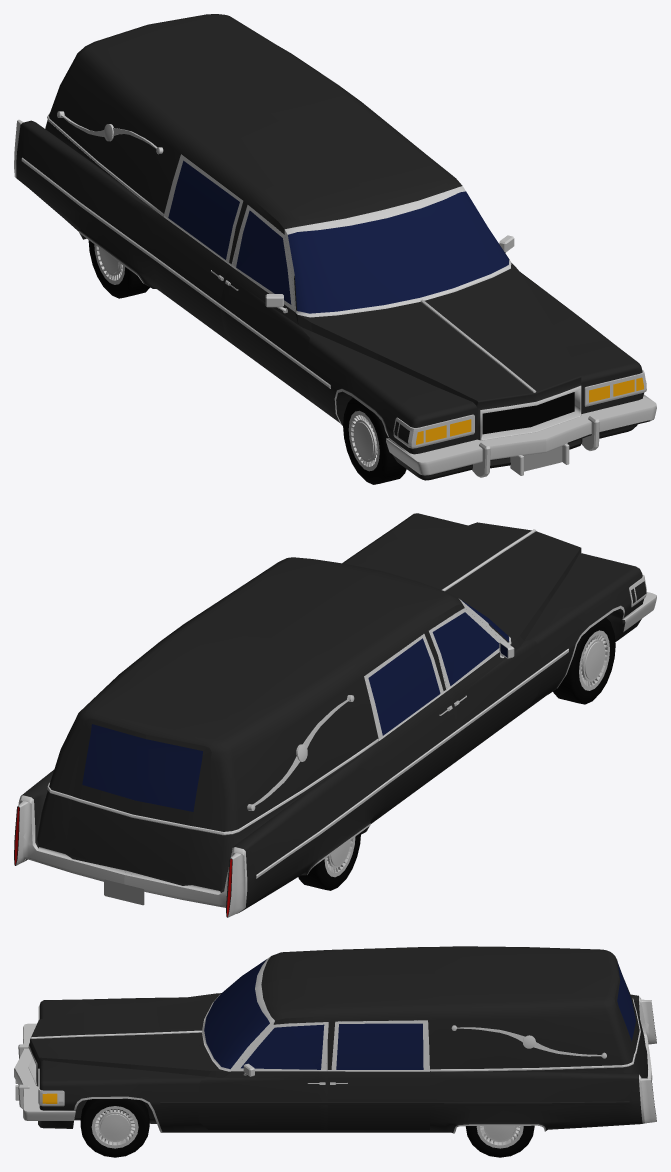
File: funeralVehicle_V01.fbx
3 renders of one model, top to bottom at view 1: azimuth 30°, elevation 25°; view 2: azimuth 150°, elevation 25°; view 3: azimuth 270°, elevation 25°, orthographic. The views are drawn at different scales.
Visible parts, largest first — view 1: Body; view 2: Body, BackDoor; view 3: Body, BackDoor.
Part boxes in pixels (x1,y1,x2,y2): Body: [14, 14, 656, 484]; Body: [14, 513, 656, 917]; BackDoor: [65, 718, 211, 885]; Body: [14, 946, 656, 1157]; BackDoor: [614, 956, 647, 1078].
Bounding box in the file's own units: 644 × 469 × 1911.
